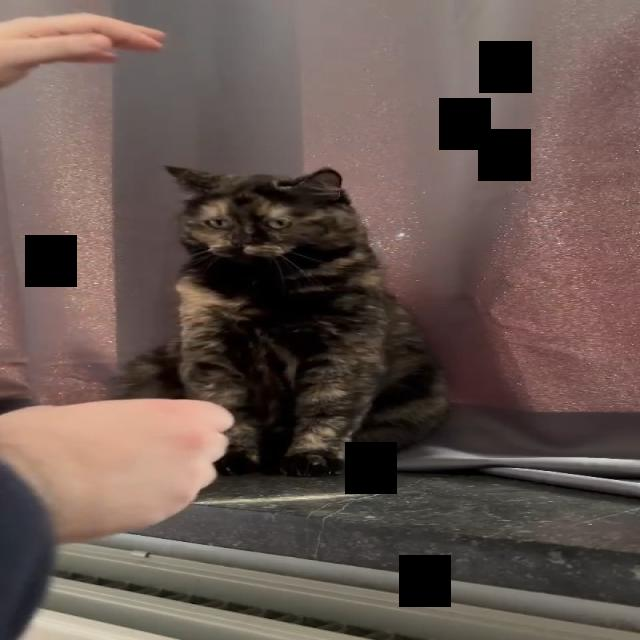authorized: (107, 164, 450, 477)
